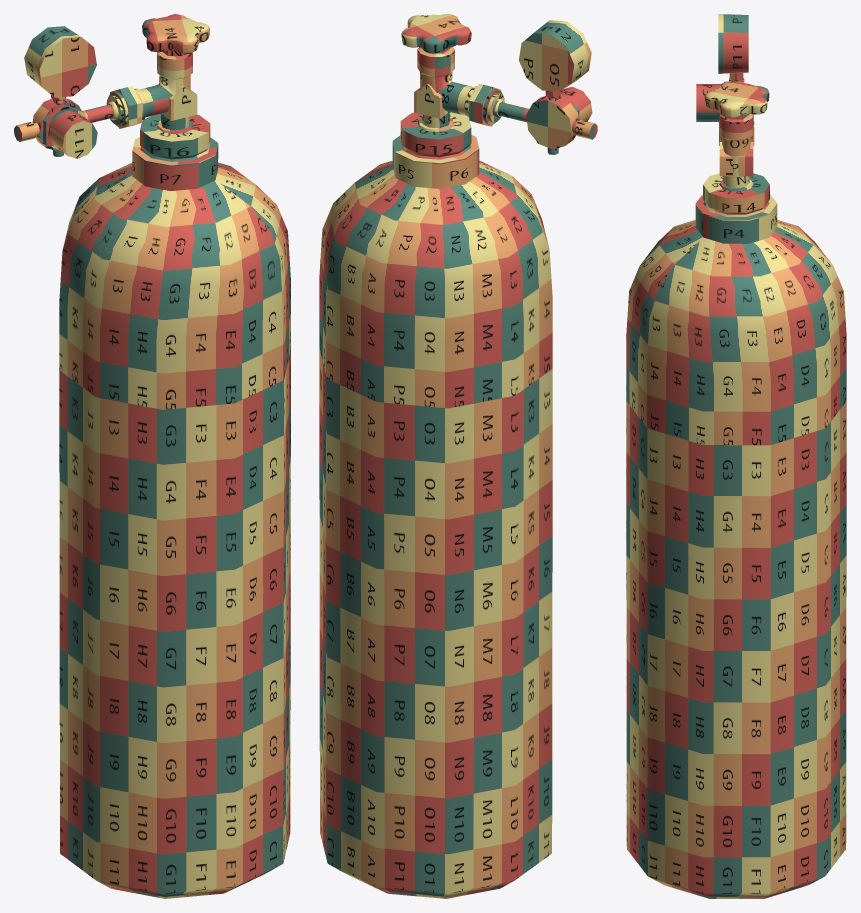
3 renders of one model, left to right at view 1: azimuth 30°, elevation 25°; view 2: azimuth 150°, elevation 25°; view 3: azimuth 270°, elevation 25°, orthographic. The views are drawn at different scales.
Visible parts, largest first — view 1: SM_Cylinder_01c; view 2: SM_Cylinder_01c; view 3: SM_Cylinder_01c.
Part boxes in pixels (box(x1,y1,x2,y2)): SM_Cylinder_01c: box(14, 14, 290, 898); SM_Cylinder_01c: box(319, 14, 597, 898); SM_Cylinder_01c: box(626, 14, 846, 898).
Size of the model in its own units: 25.52 by 81.89 by 20.61.
1 material, 1 textured.
